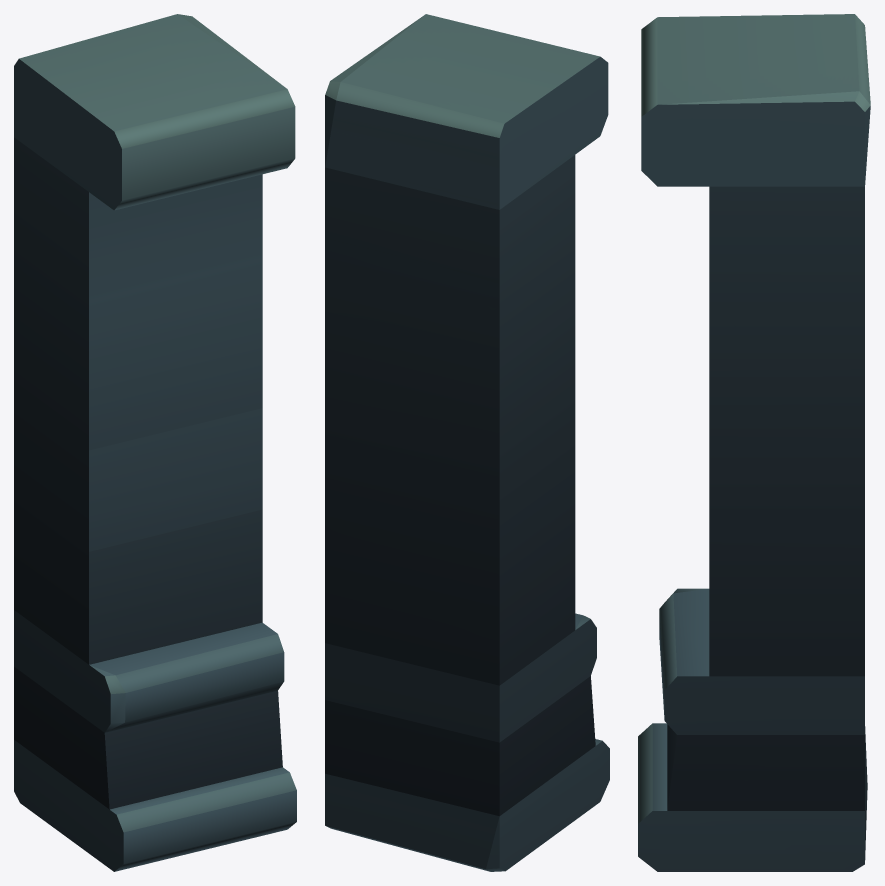
Rendered from wall_element_tileable_1meters.fbx.
3 views of the same model, side by side, from view 1: azimuth 30°, elevation 25°; view 2: azimuth 150°, elevation 25°; view 3: azimuth 270°, elevation 25° (orthographic). The views are drawn at different scales.
Parts seen in each view (by area): view 1: wall_element_tileable_1meters; view 2: wall_element_tileable_1meters; view 3: wall_element_tileable_1meters.
Boxes of the visible parts, x1,y1,x2,y2 form: wall_element_tileable_1meters: (14, 14, 296, 871); wall_element_tileable_1meters: (325, 14, 609, 871); wall_element_tileable_1meters: (638, 14, 870, 871).
Bounding box in the file's own units: 100 × 414 × 112.
